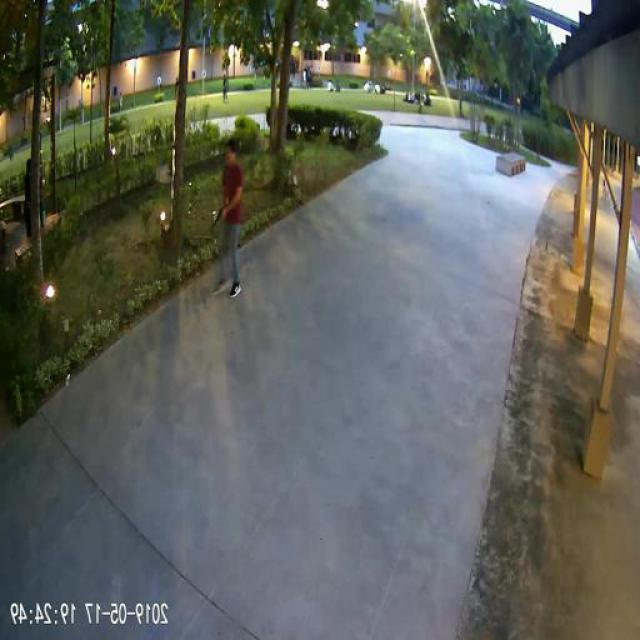Gun: (216, 204, 229, 224)
